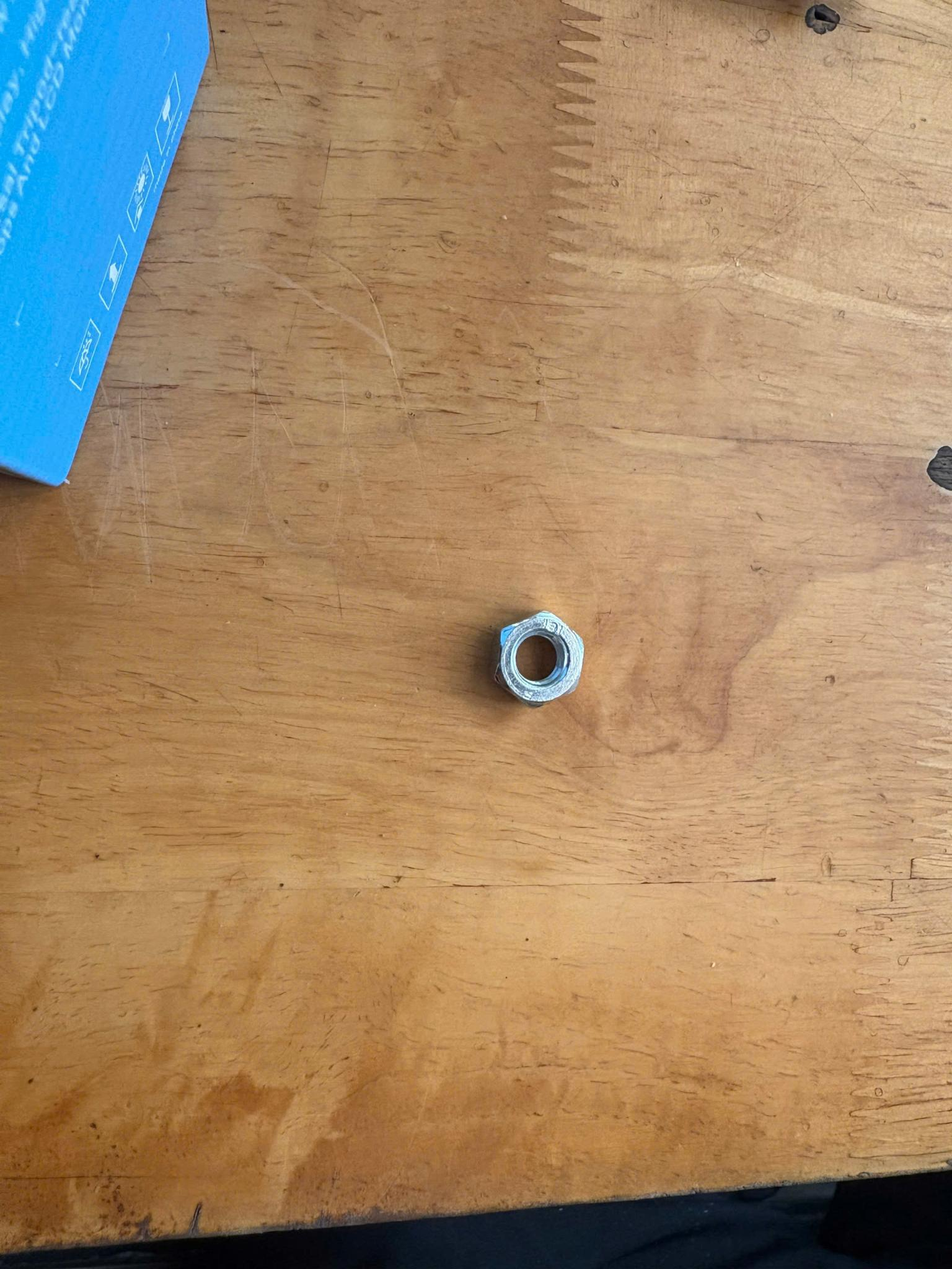nut: (481, 605, 607, 724)
